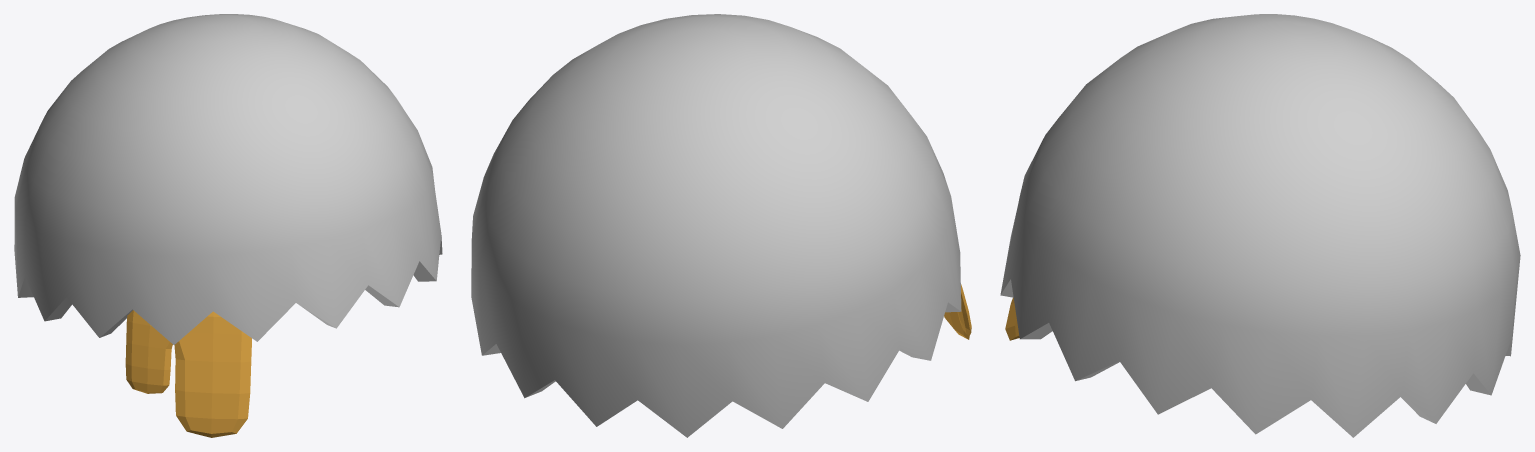
The model's file is crackedegg.fbx.
3 renders of one model, left to right at view 1: azimuth 30°, elevation 25°; view 2: azimuth 150°, elevation 25°; view 3: azimuth 270°, elevation 25°, orthographic. The views are drawn at different scales.
Visible parts, largest first — view 1: Sphere.007, Cube; view 2: Sphere.007, Cube; view 3: Sphere.007.
Part boxes in pixels (x1=…): Sphere.007: x1=14, y1=14, x2=442, y2=344; Cube: x1=125, y1=310, x2=251, y2=437; Sphere.007: x1=471, y1=14, x2=961, y2=437; Cube: x1=944, y1=284, x2=971, y2=339; Sphere.007: x1=1000, y1=14, x2=1520, y2=437.
Size of the model in its own units: 68.63 by 53.65 by 69.33.
